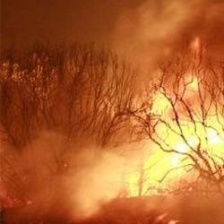fire: (119, 89, 224, 198)
